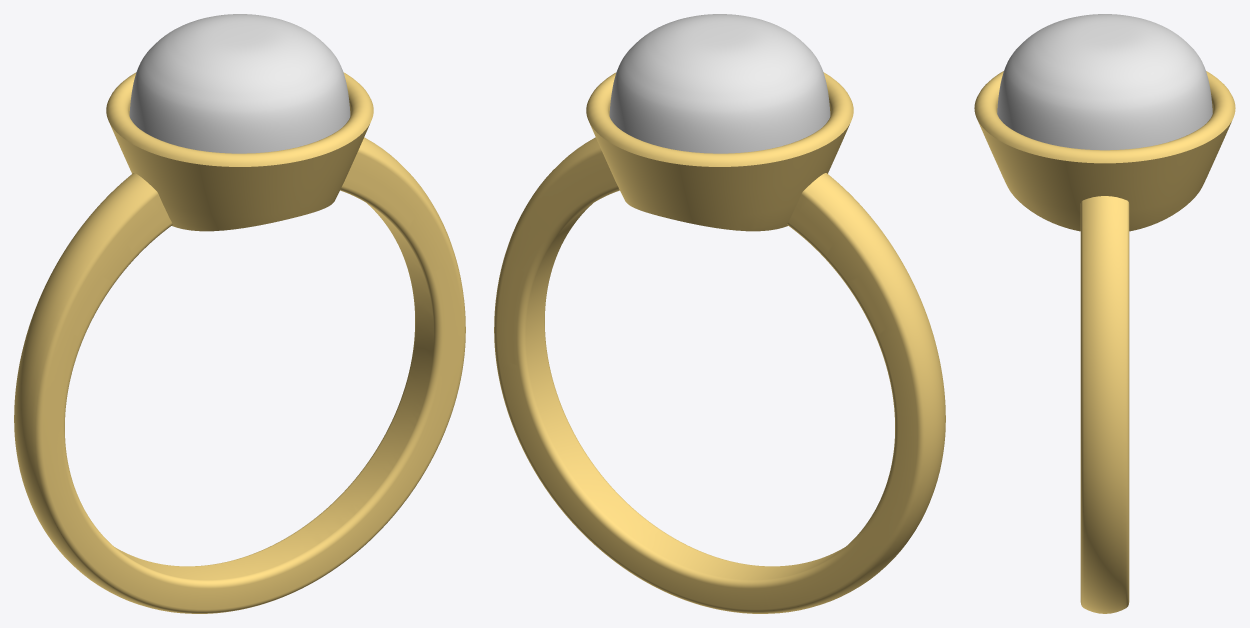
File: Wendy10mmMoonstoneYG_blender.glb
3 views of the same model, side by side, from view 1: azimuth 30°, elevation 25°; view 2: azimuth 150°, elevation 25°; view 3: azimuth 270°, elevation 25° (orthographic). The views are drawn at different scales.
Parts seen in each view (by area): view 1: Wendy YG for 3d model, Wendy moonstone for 3d model; view 2: Wendy YG for 3d model, Wendy moonstone for 3d model; view 3: Wendy YG for 3d model, Wendy moonstone for 3d model.
Part boxes in pixels (x1,y1,x2,y2): Wendy YG for 3d model: (14,72,465,613); Wendy moonstone for 3d model: (129,14,350,153); Wendy YG for 3d model: (494,72,945,613); Wendy moonstone for 3d model: (609,14,830,153); Wendy YG for 3d model: (974,71,1235,613); Wendy moonstone for 3d model: (997,14,1212,150).
Bounding box in the file's own units: 22.57 × 27.99 × 11.88.
